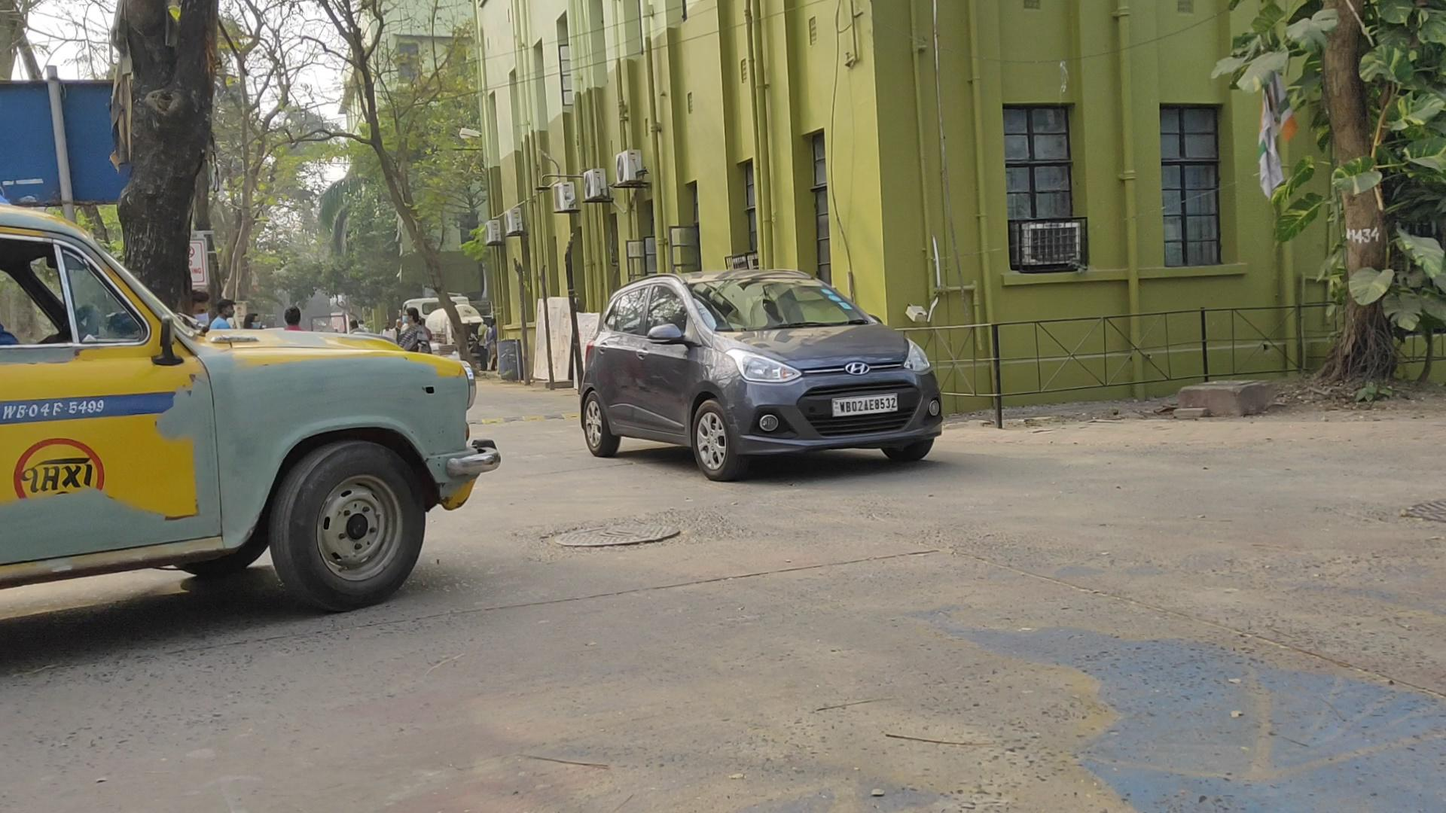car: (2, 191, 502, 613), (578, 268, 942, 482)
